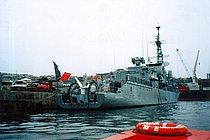MIL_Ship: (54, 53, 182, 107)
